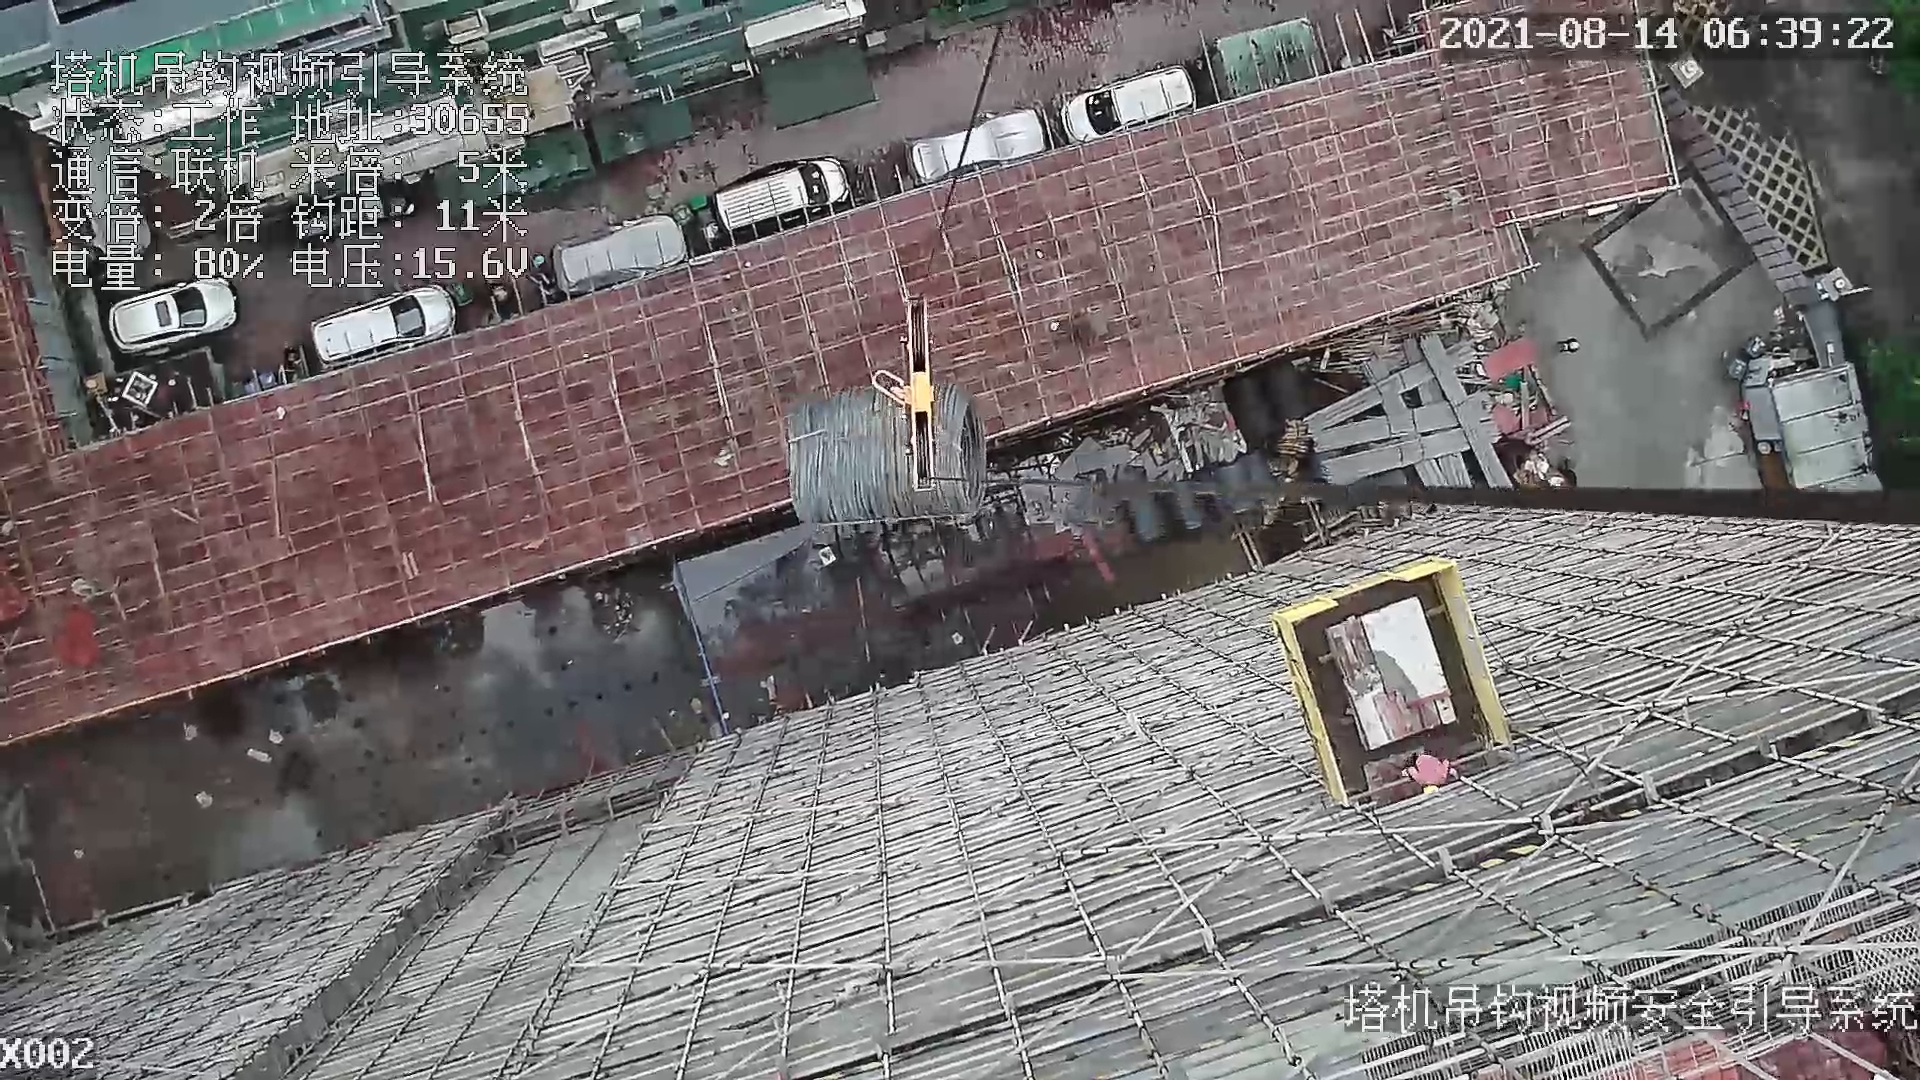hook: (867, 287, 953, 495)
person: (1409, 746, 1450, 801)
